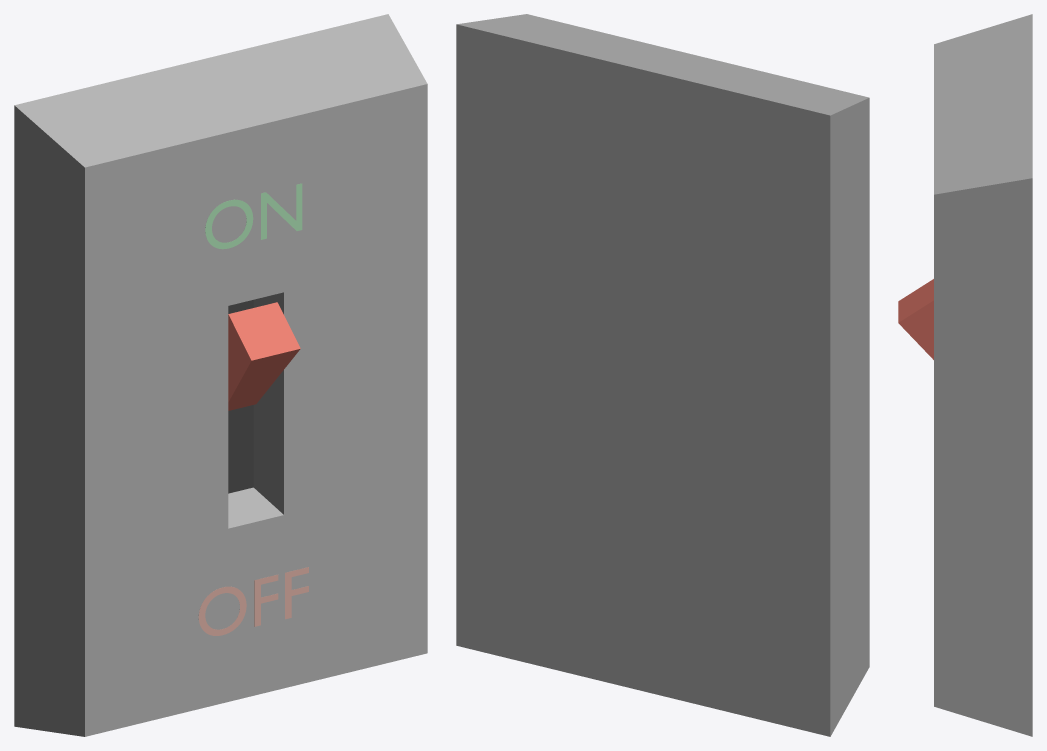
File: ToggleSwitchOnOffLightSyst.fbx
The picture shows the model from 3 angles, left to right: view 1: azimuth 30°, elevation 25°; view 2: azimuth 150°, elevation 25°; view 3: azimuth 270°, elevation 25°; orthographic projection. The views are drawn at different scales.
Parts seen in each view (by area): view 1: Toggle_Switch_OnOff_LightSyst_Base, Toggle_Switch_OnOff_LightSyst, TextOff_Enlightened, TextOn_Enlightened; view 2: Toggle_Switch_OnOff_LightSyst_Base; view 3: Toggle_Switch_OnOff_LightSyst_Base, Toggle_Switch_OnOff_LightSyst.
Part boxes in pixels (<box>): Toggle_Switch_OnOff_LightSyst_Base: <box>14,14,427,736</box>; Toggle_Switch_OnOff_LightSyst: <box>228,302,300,410</box>; TextOff_Enlightened: <box>198,567,308,635</box>; TextOn_Enlightened: <box>205,183,302,249</box>; Toggle_Switch_OnOff_LightSyst_Base: <box>456,14,869,736</box>; Toggle_Switch_OnOff_LightSyst_Base: <box>934,14,1032,736</box>; Toggle_Switch_OnOff_LightSyst: <box>898,279,933,359</box>.
Bounding box in the file's own units: 126 × 200 × 43.65.
